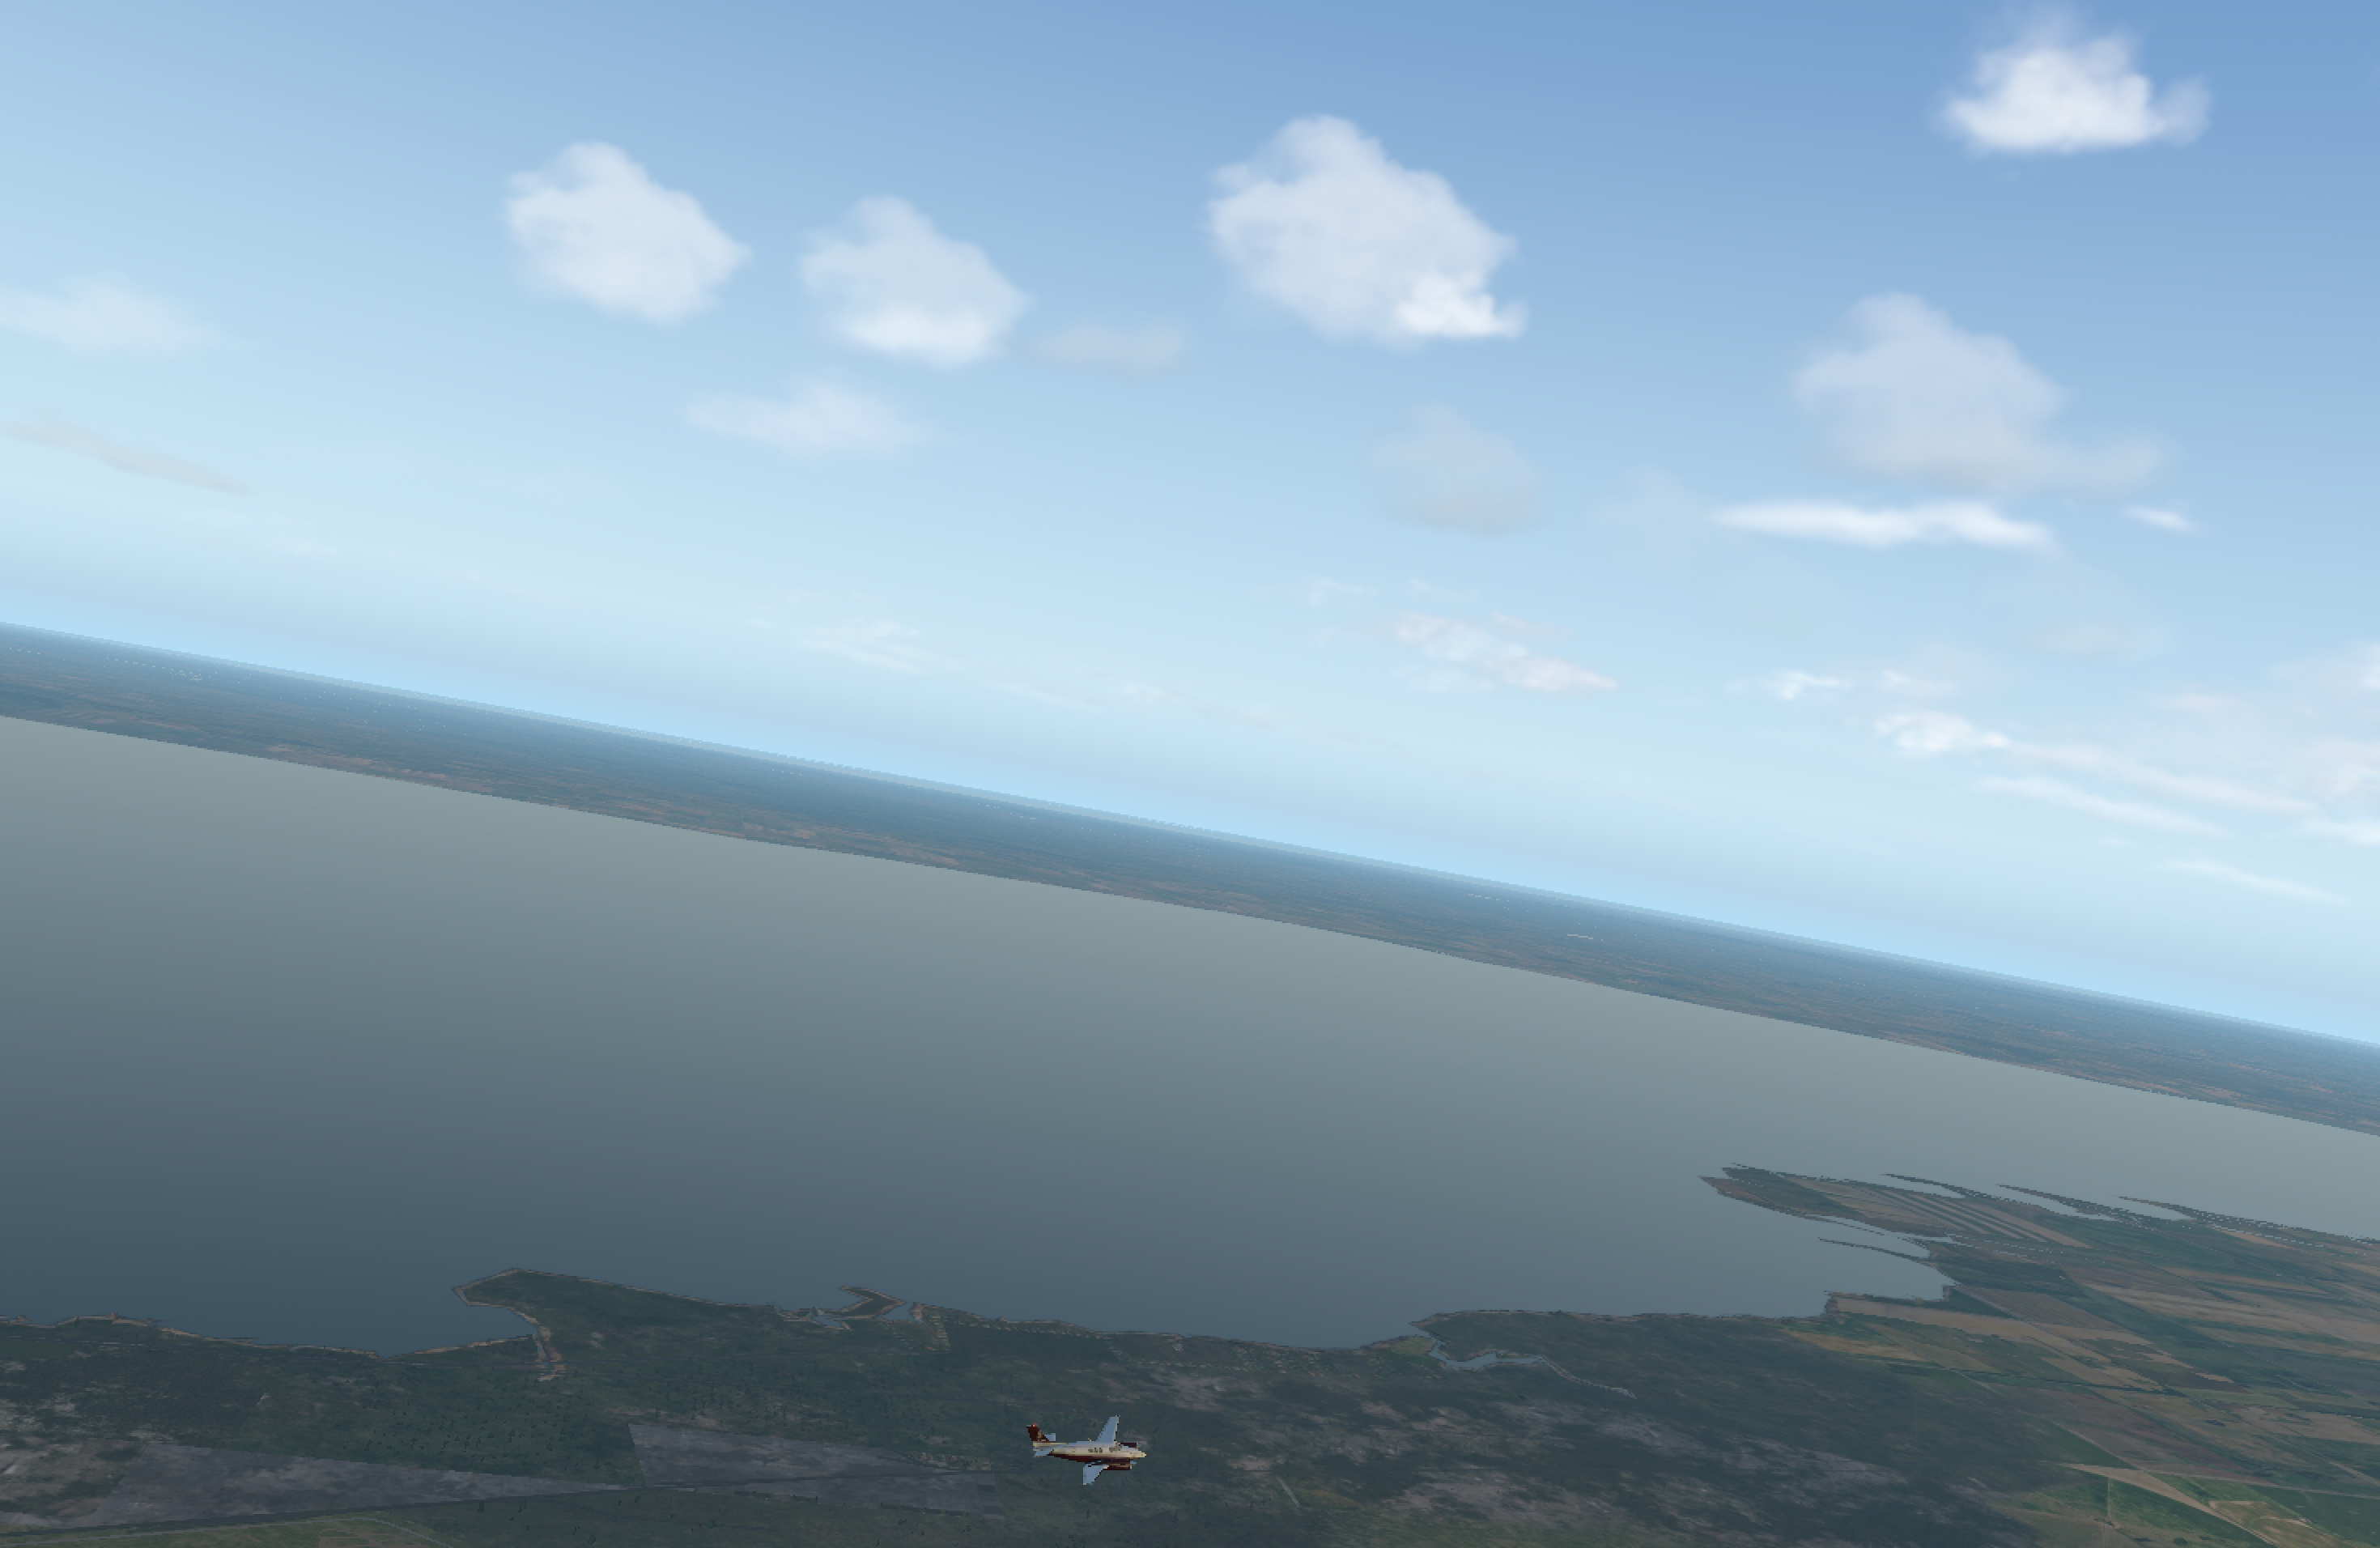aircraft: (1026, 1428, 1190, 1490)
